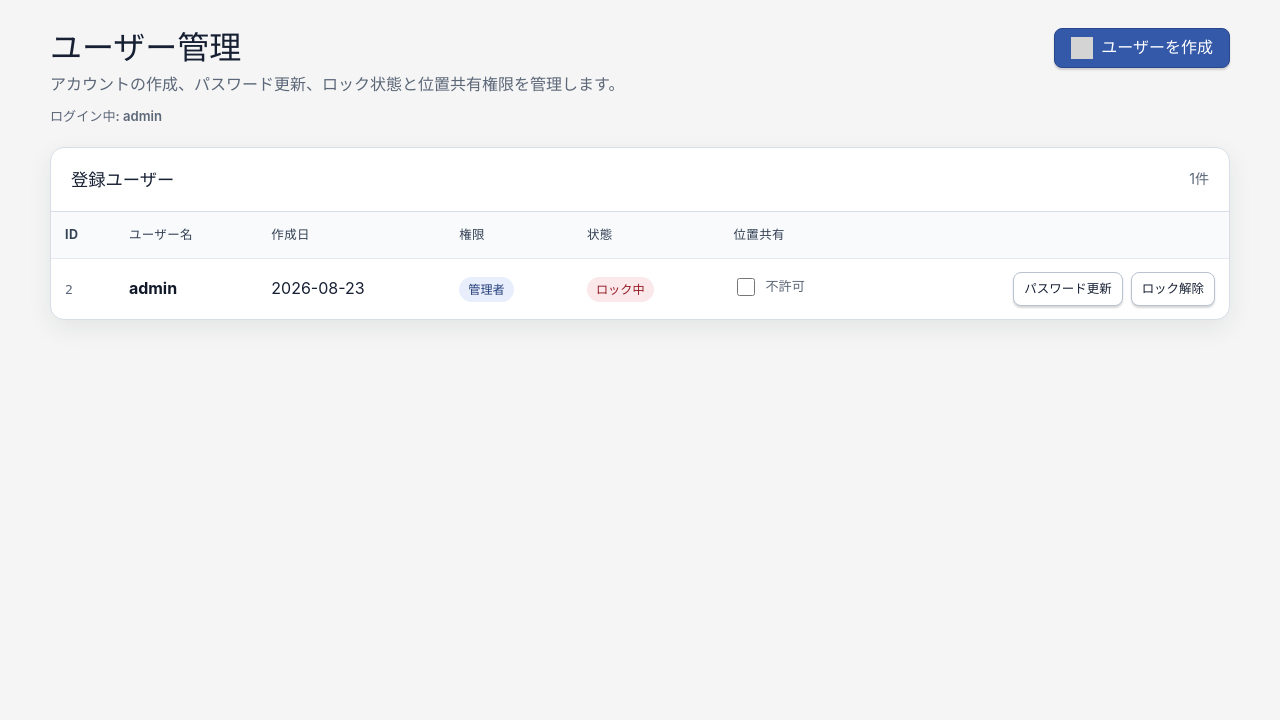
Test: 管理ユーザー一覧画面 › リクエスト送信前にアカウント作成入力を検証する
The width and height of the screenshot is (1280, 720).
Click the button with class "btn-head-image" at (1142, 48), box [1054,28,1230,68]
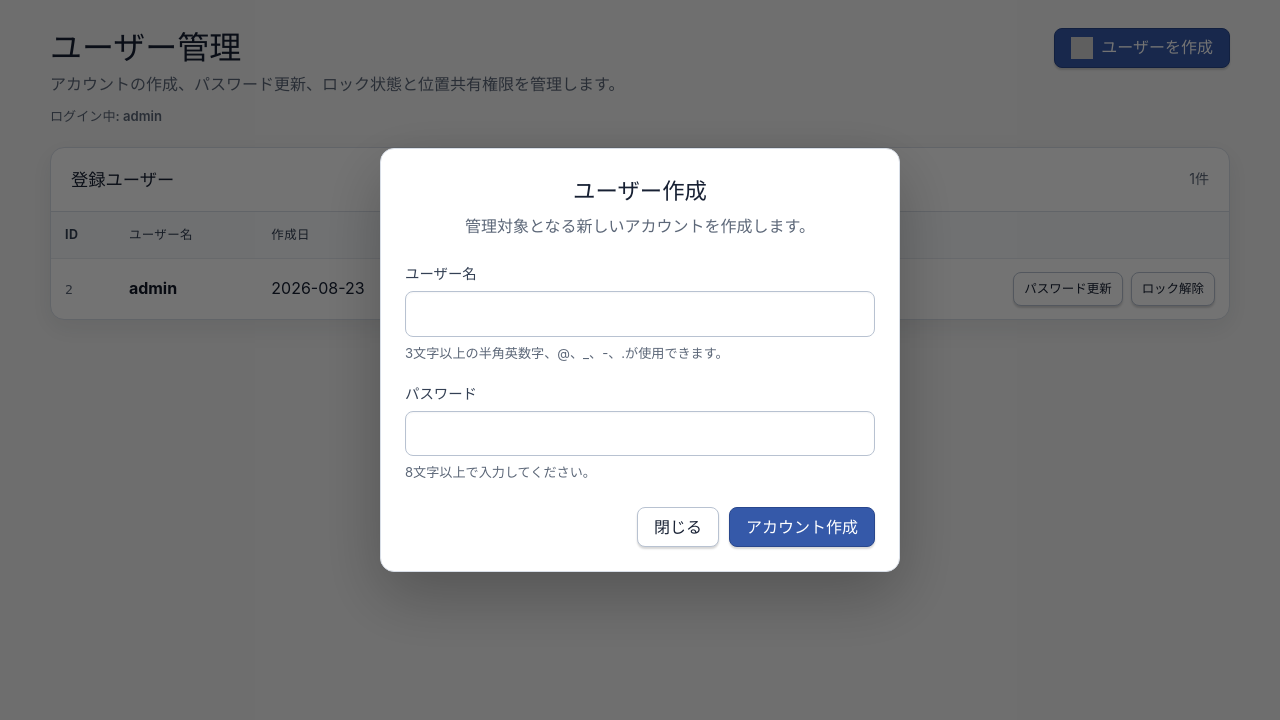
Type "bad name" into the field labelled "ユーザー名 3文字以上の半角英数字、@、_、-、.が使用できます。" at (640, 314), box [405,291,875,337]
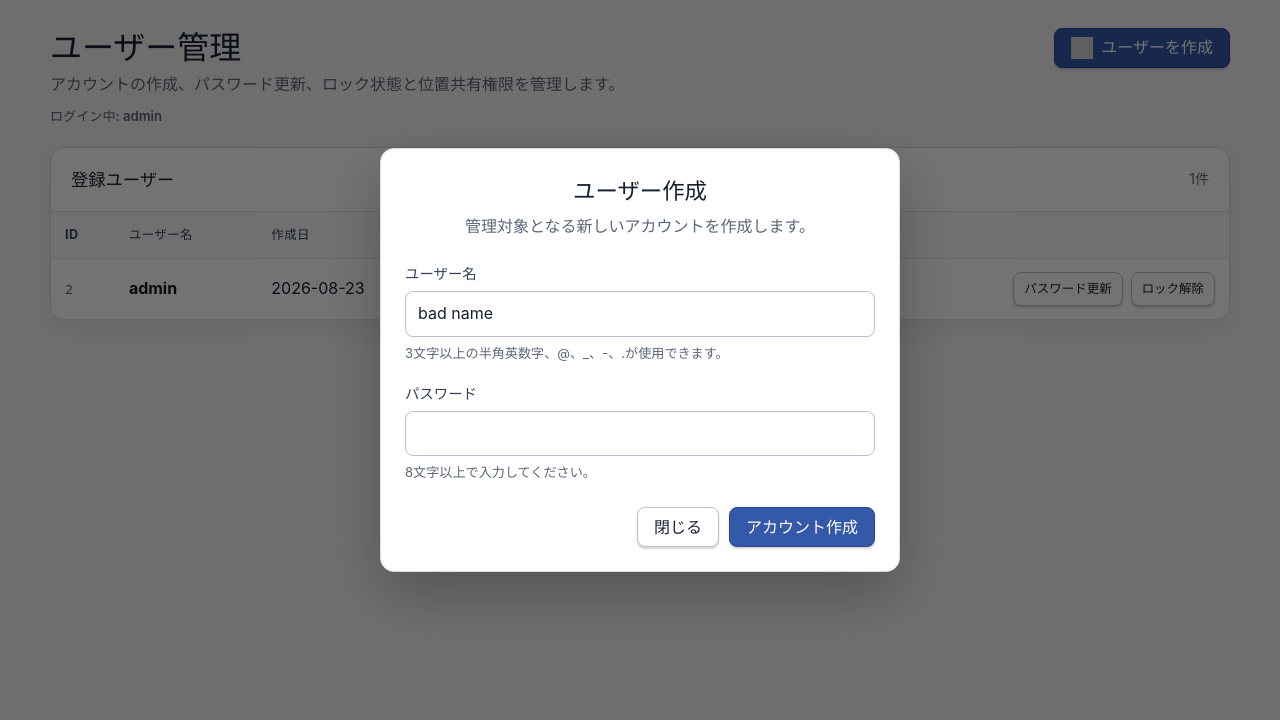
Type "password123" into the password field labelled "パスワード 8文字以上で入力してください。" at (640, 434), box [405,411,875,456]
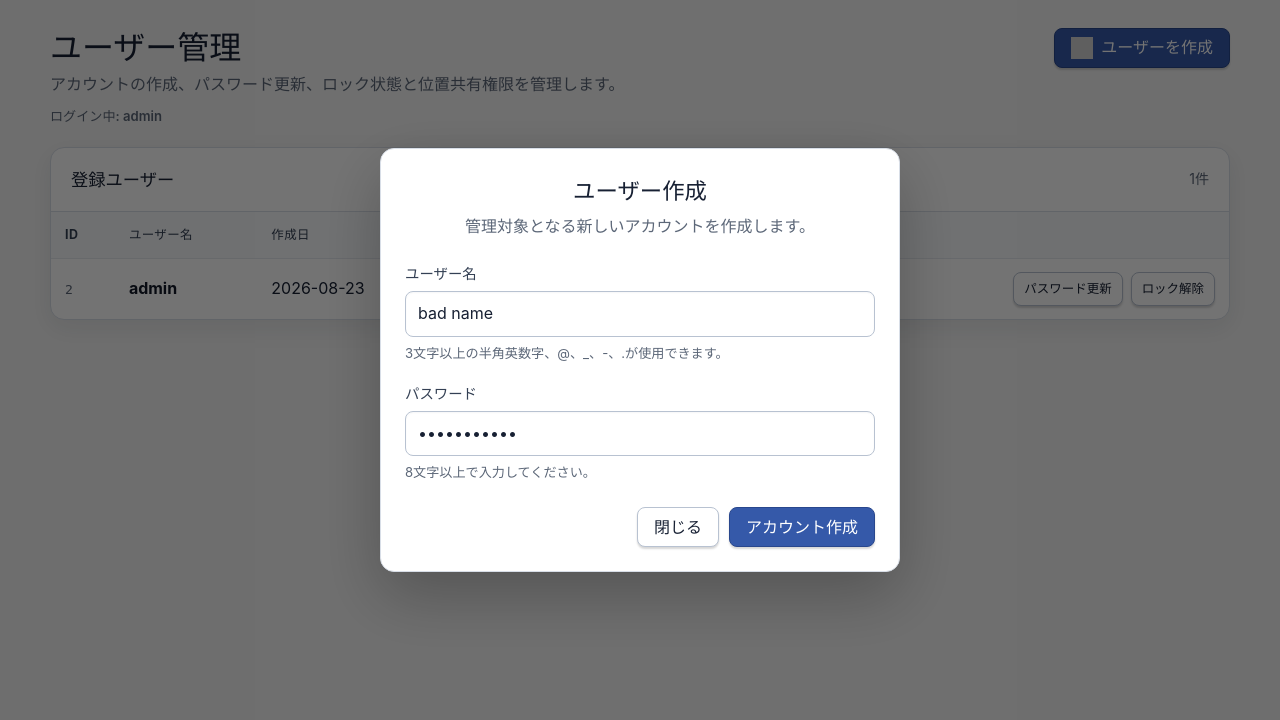
Submit the form, box [405,262,875,547]
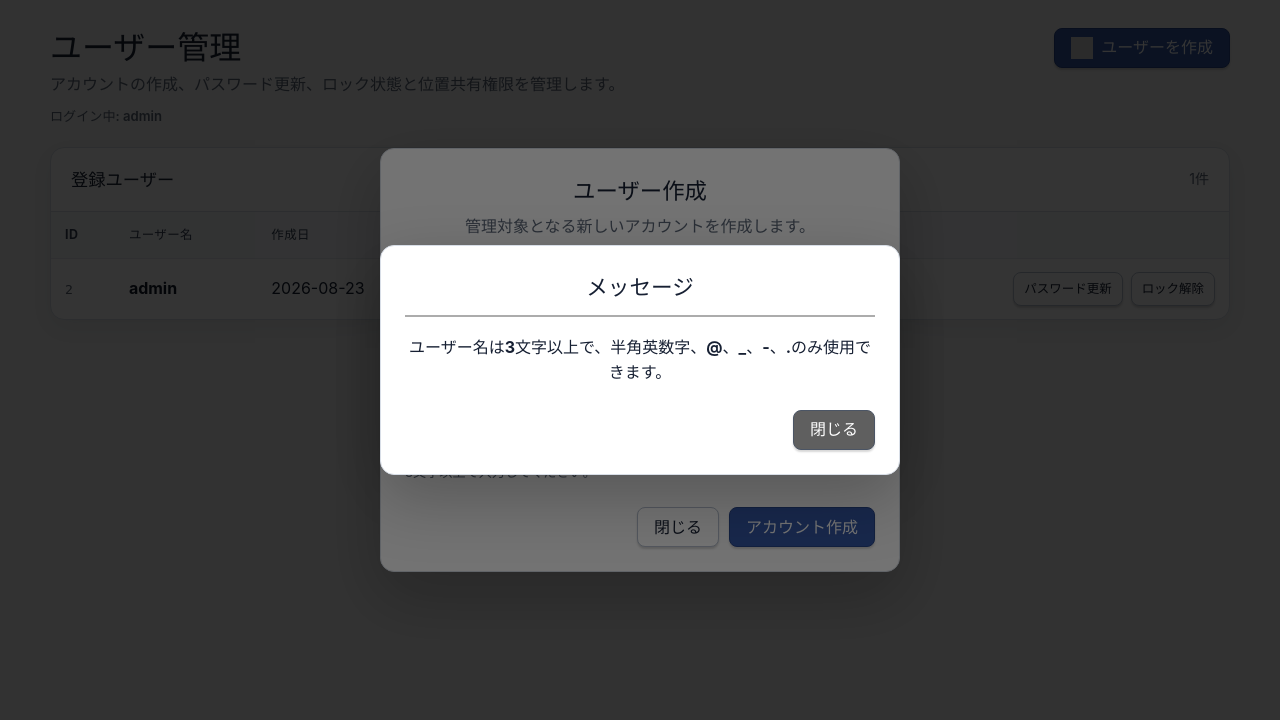
Expected: the text "ユーザー名は3文字以上" is shown, [409,337,871,382]
